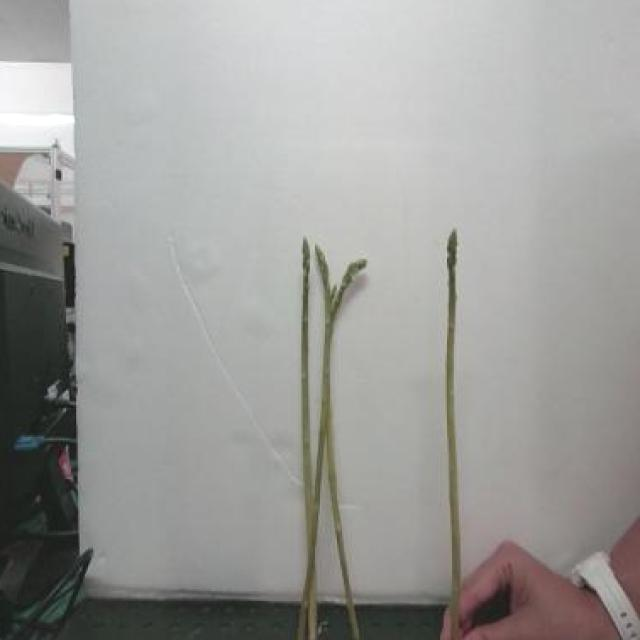aspargus: (446, 231, 463, 613)
